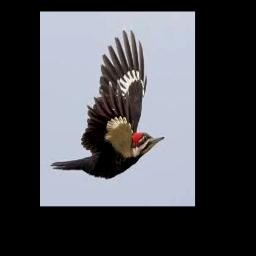Woodpecker: (50, 30, 165, 178)
